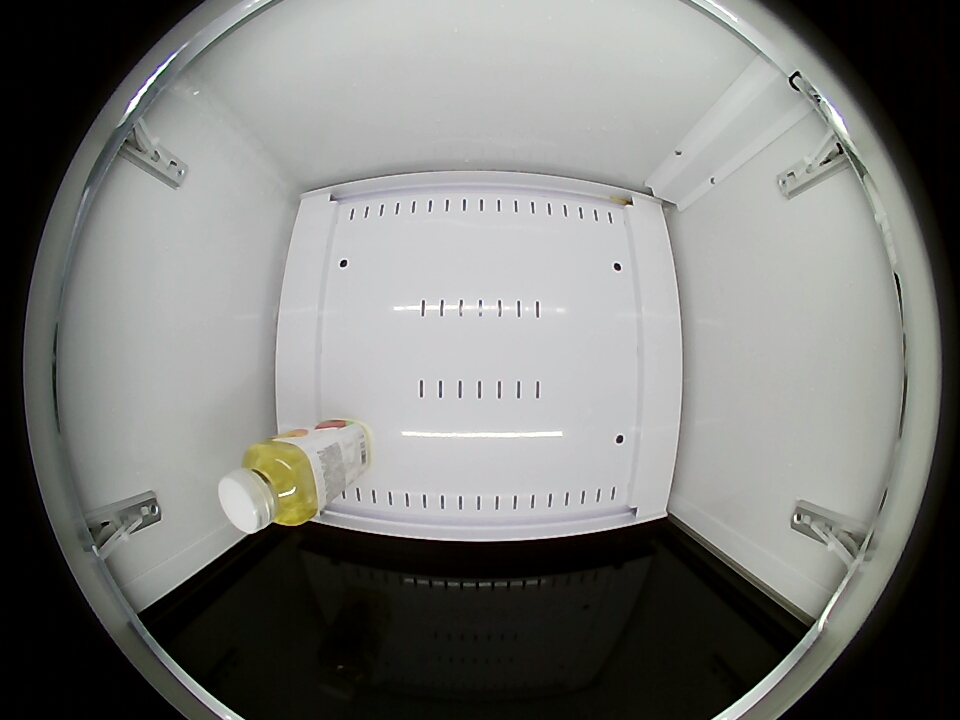chapai2: (219, 439, 319, 534)
